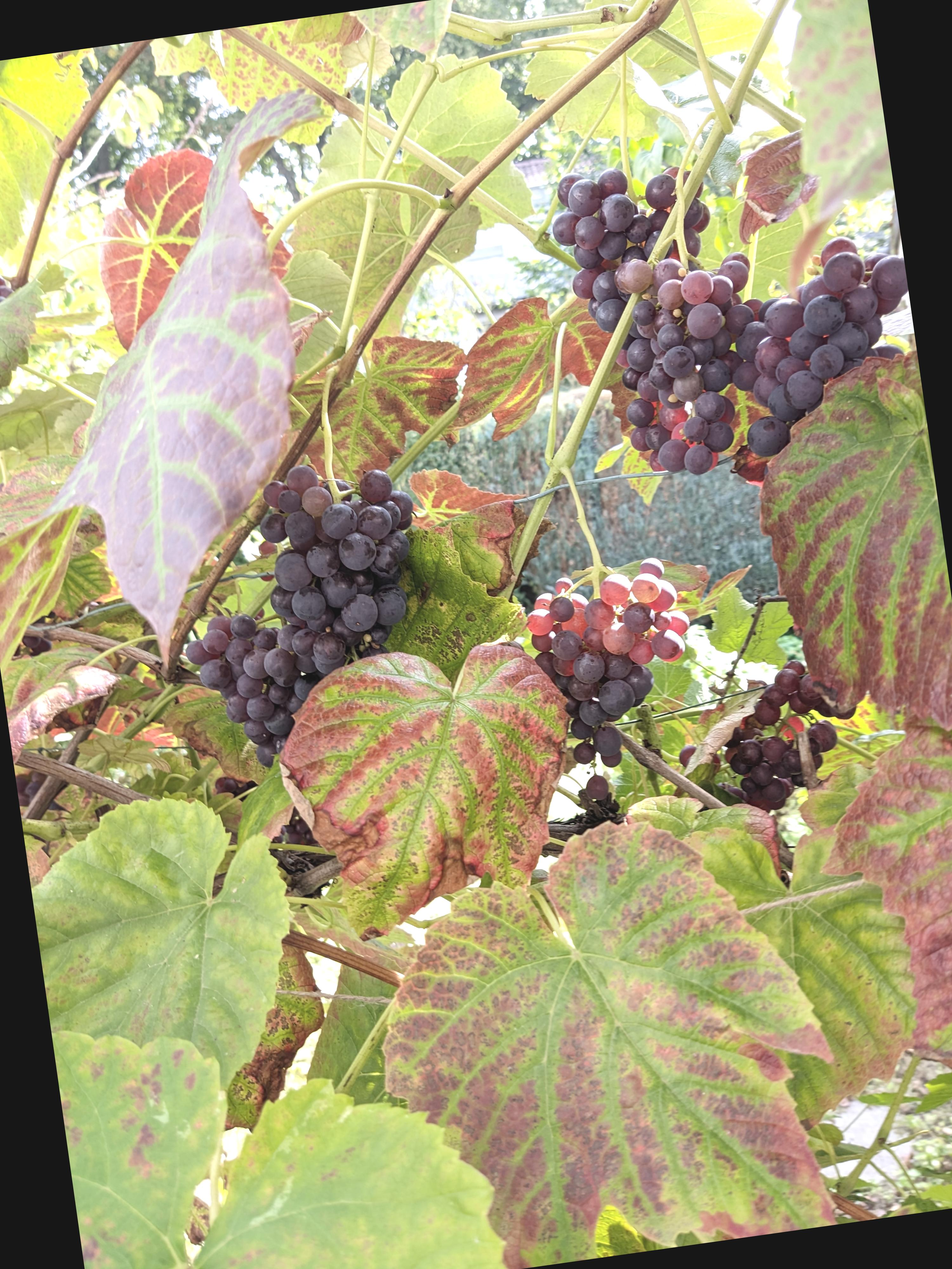Grape Ripe: (83, 518, 367, 845), (465, 219, 706, 561), (642, 297, 850, 538), (433, 626, 620, 877), (635, 721, 789, 886), (136, 836, 238, 927)
